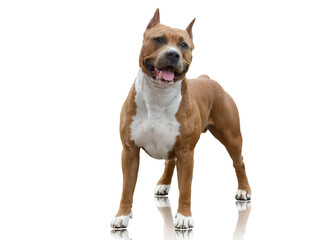am_pit_bull_terrier: (110, 8, 251, 229)
